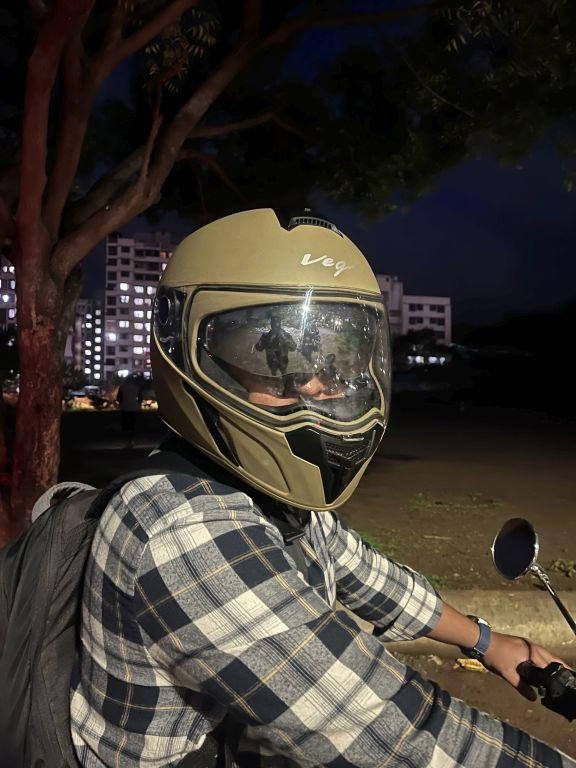helmet: (139, 190, 401, 521)
